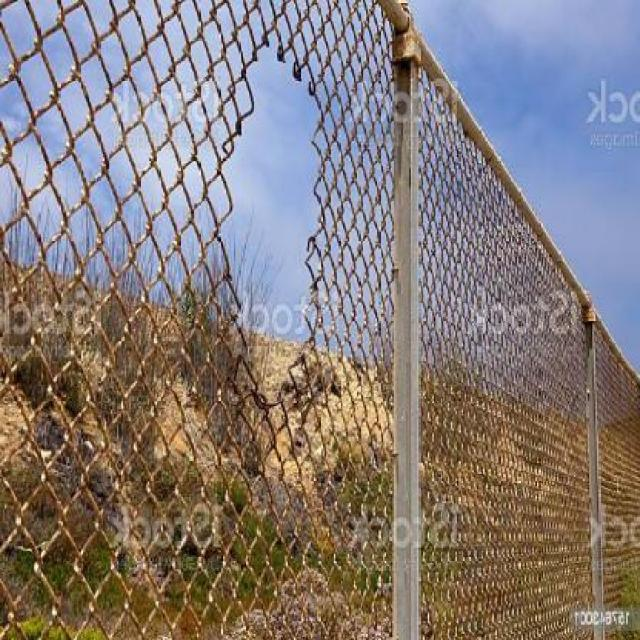fence line: (217, 34, 341, 403)
